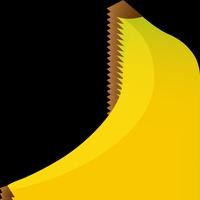banane: (15, 2, 199, 200)
